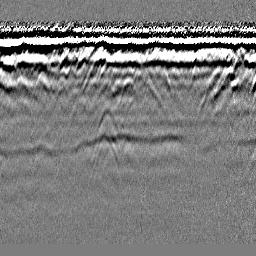cavity: (119, 75, 137, 103)
